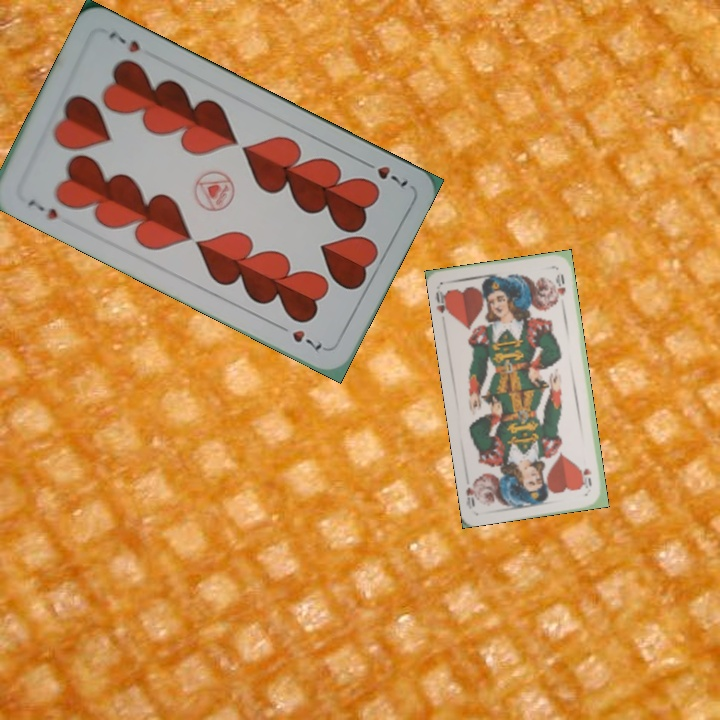H7: (357, 156, 411, 191), (24, 194, 61, 223)
HO: (432, 286, 454, 318), (579, 464, 594, 491)
